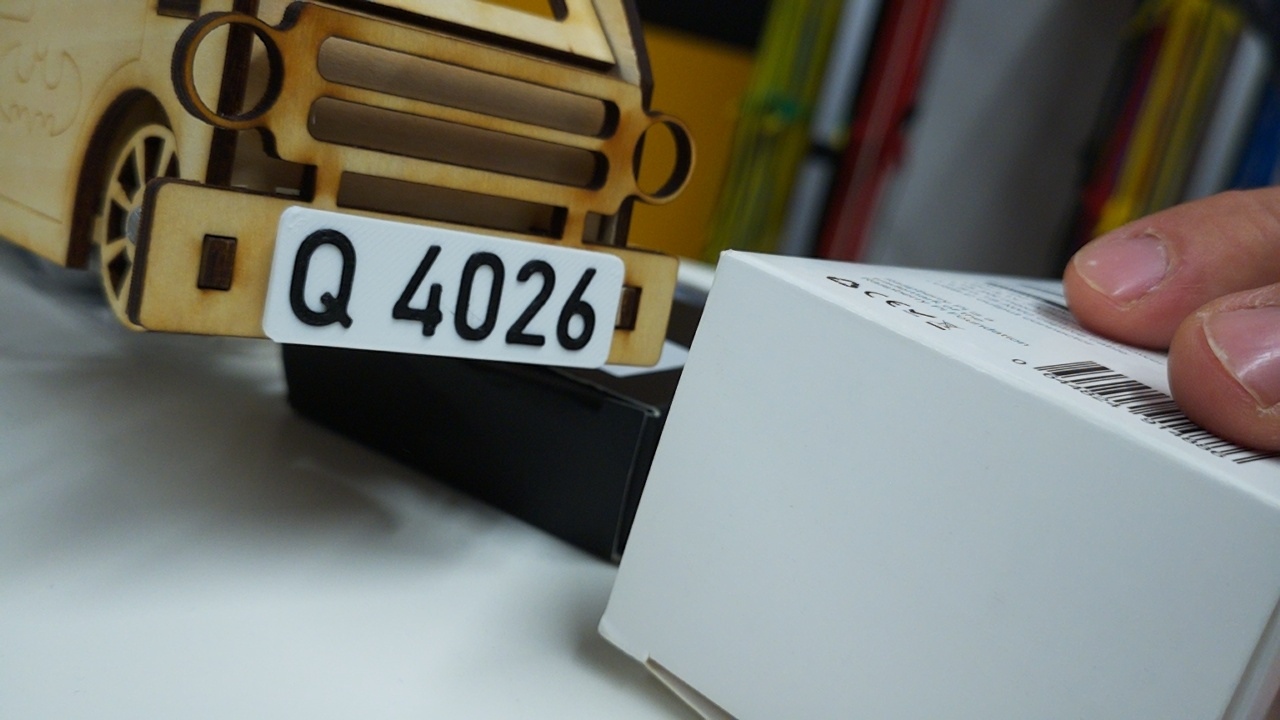license_plate: (260, 203, 627, 370)
